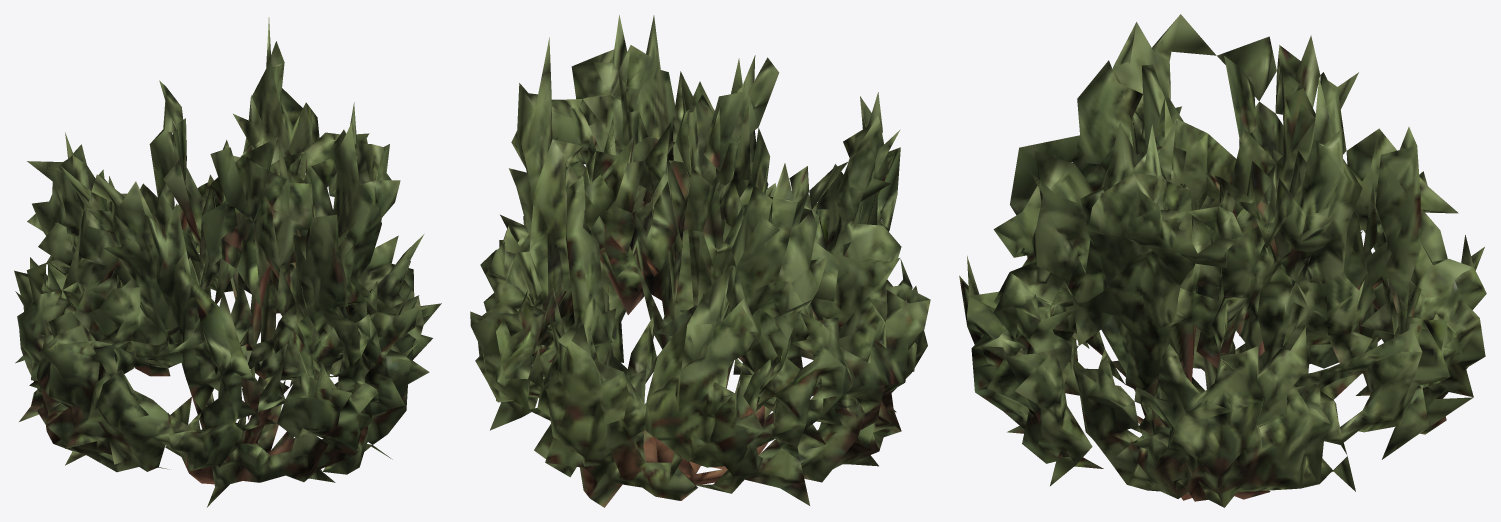
Rendered from bush3.glb.
The picture shows the model from 3 angles, left to right: view 1: azimuth 30°, elevation 25°; view 2: azimuth 150°, elevation 25°; view 3: azimuth 270°, elevation 25°; orthographic projection. The views are drawn at different scales.
Parts seen in each view (by area): view 1: input; view 2: input; view 3: input.
Part boxes in pixels (bbox=[...]): input: bbox=[14, 17, 441, 507]; input: bbox=[470, 15, 930, 507]; input: bbox=[959, 14, 1486, 507].
Bounding box in the file's own units: 0.8376 × 0.8267 × 0.8655.
Materials: 1 (1 with a texture image).
